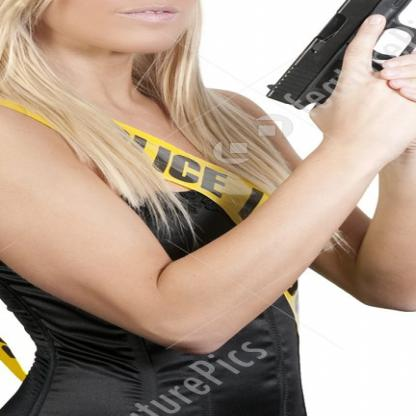gun: (256, 0, 415, 121)
